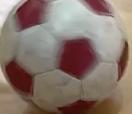Sports-Ball: (2, 1, 128, 108)
